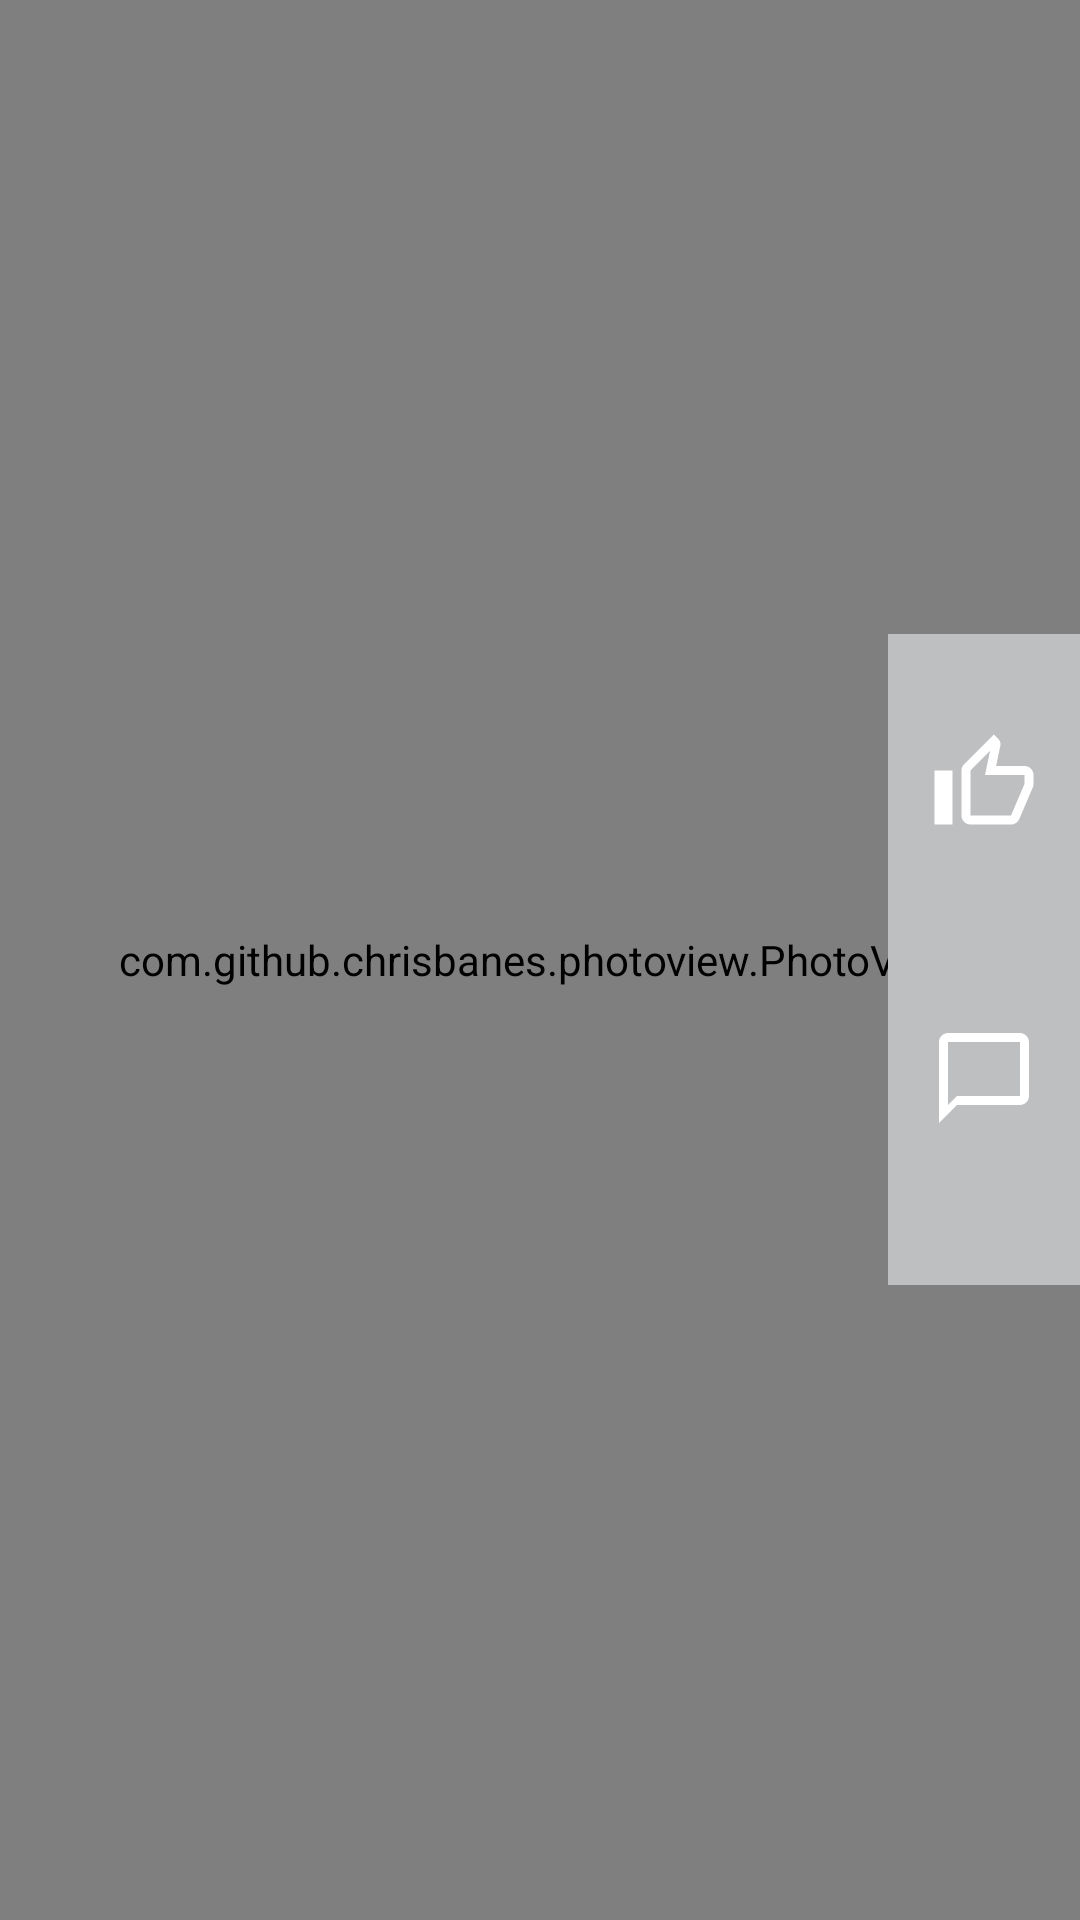

Point at icon controls on the screen. Image size 1080 x 1920, points as (x,y).
chat comment: (984,1078)
thumb up: (984,780)
